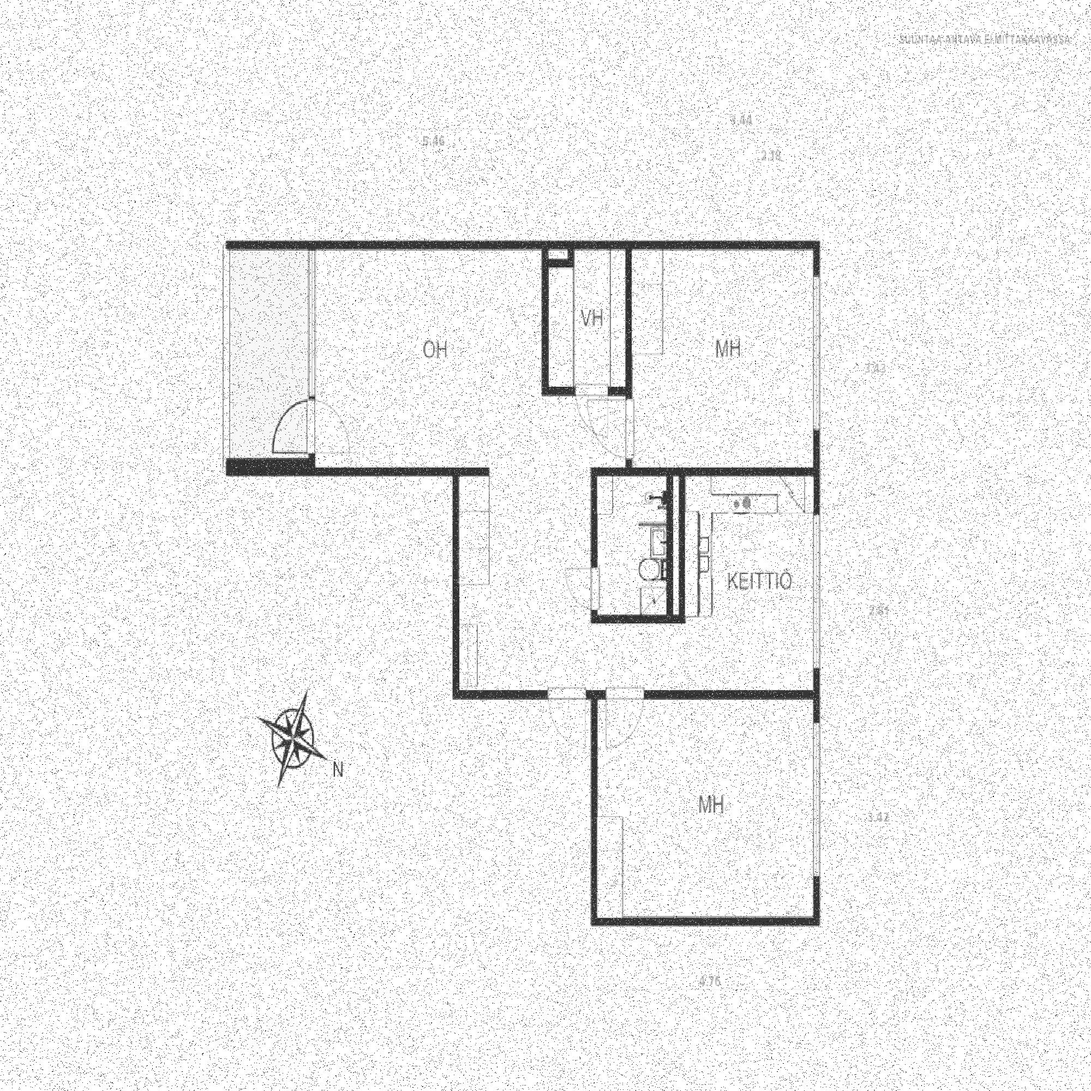wall: (307, 241, 819, 251), (812, 241, 819, 926), (666, 466, 684, 622), (590, 466, 819, 477), (590, 916, 819, 926), (597, 689, 819, 699), (591, 690, 598, 926), (307, 241, 314, 476), (625, 241, 632, 476), (452, 466, 459, 700), (222, 457, 307, 475), (307, 466, 459, 476), (452, 689, 598, 699), (590, 466, 597, 622), (541, 241, 548, 396), (591, 613, 685, 623), (541, 387, 632, 396), (222, 241, 307, 250), (542, 249, 573, 266), (459, 466, 489, 476)
